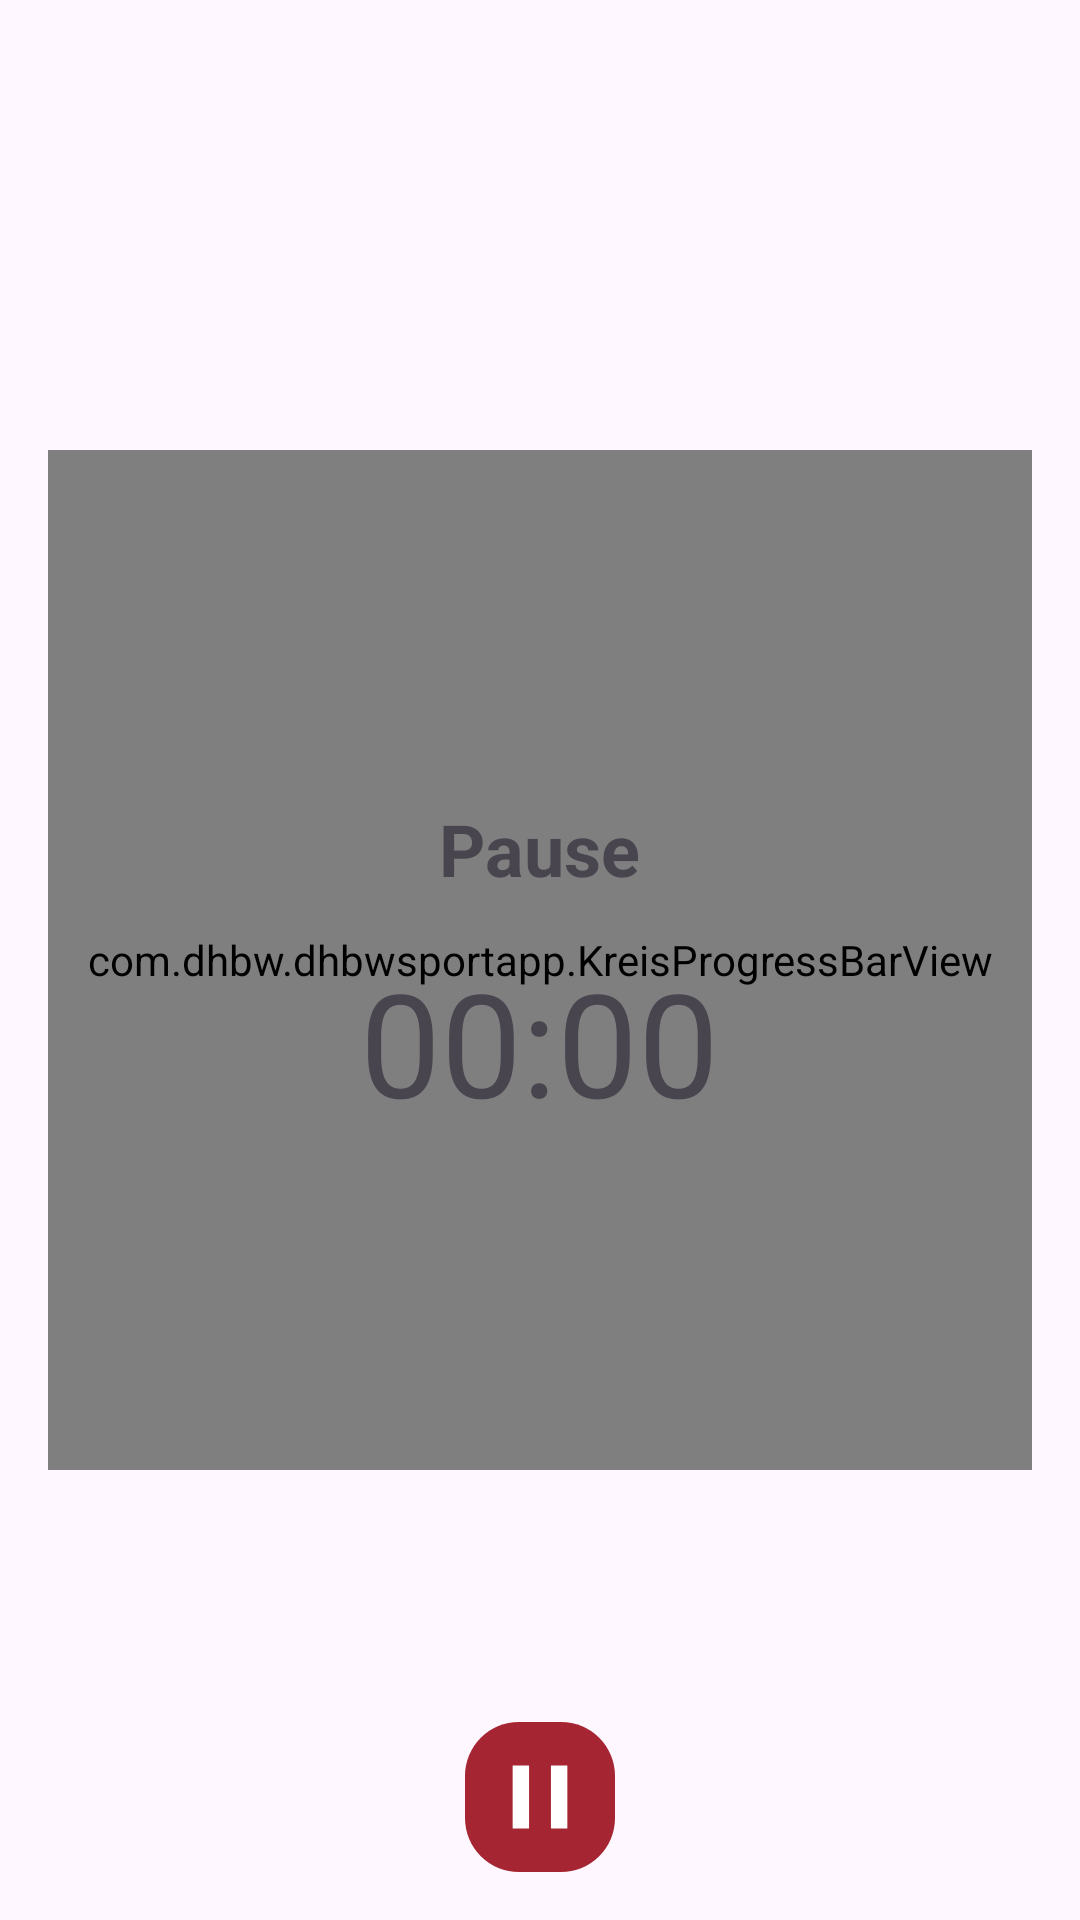

Icon bounding boxes for this 1080px x 1920px phone screenshot, format (x1, y1, x2, y2):
Pause: (465, 1722, 615, 1872)
